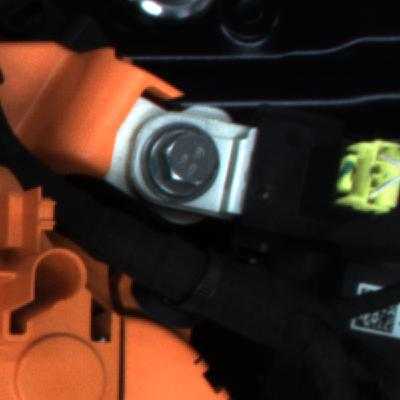nut_b: (141, 123, 219, 208)
